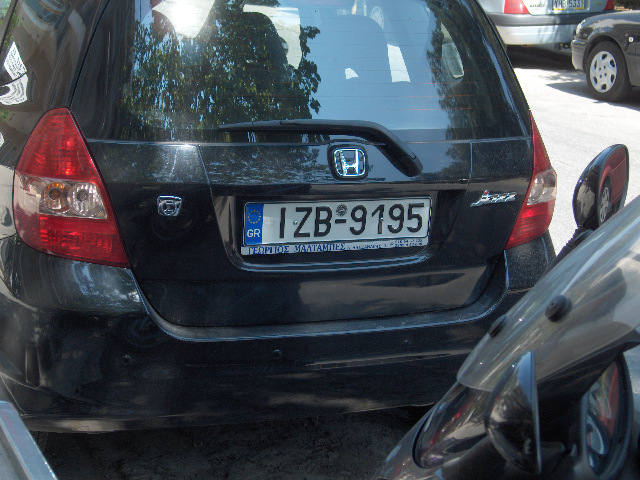licenseplate: (241, 194, 432, 245)
